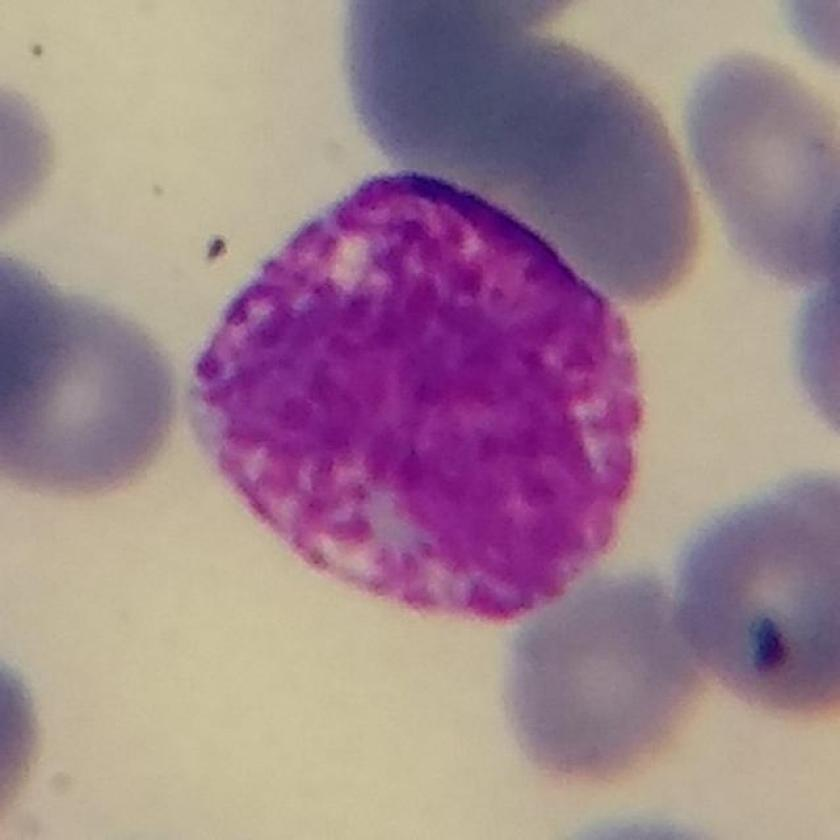basophil: (186, 143, 664, 628)
